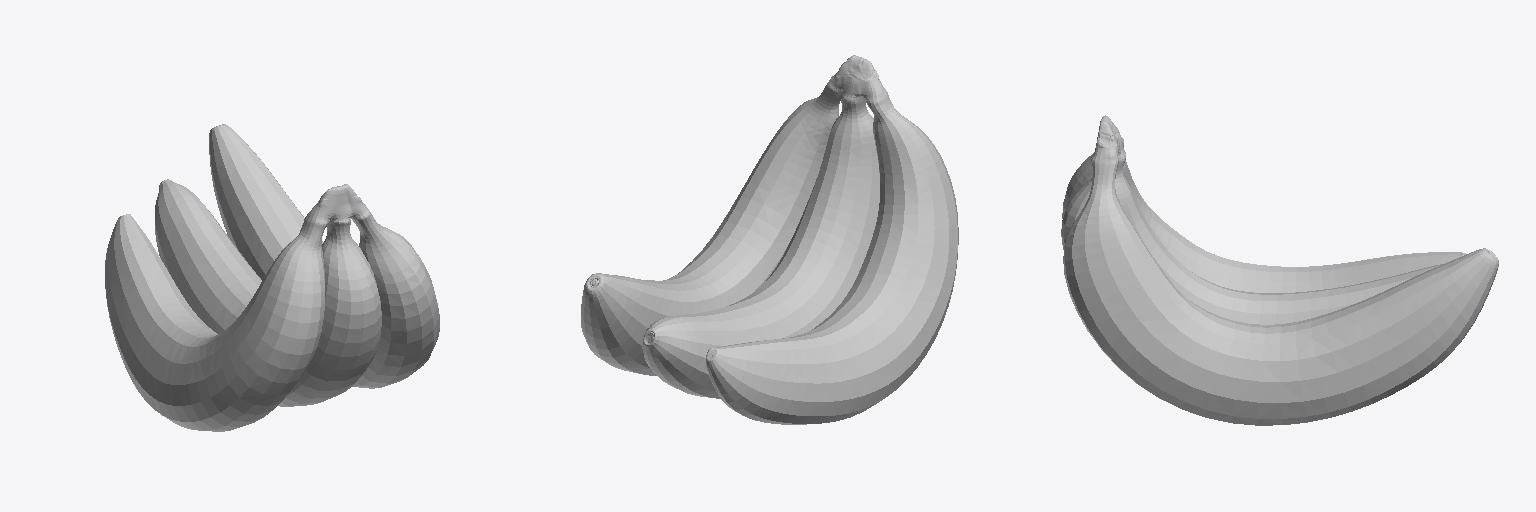
The model's file is Bananas.obj.
3 renders of one model, left to right at view 1: azimuth 30°, elevation 25°; view 2: azimuth 150°, elevation 25°; view 3: azimuth 270°, elevation 25°, orthographic.
Parts seen in each view (by area): view 1: Cube.002; view 2: Cube.002; view 3: Cube.002.
Boxes of the visible parts, box(x1,y1,x2,y2) form: Cube.002: box(105, 124, 439, 431); Cube.002: box(581, 55, 958, 424); Cube.002: box(1061, 115, 1498, 425).
Bounding box in the file's own units: 0.61 × 0.6719 × 0.9839.